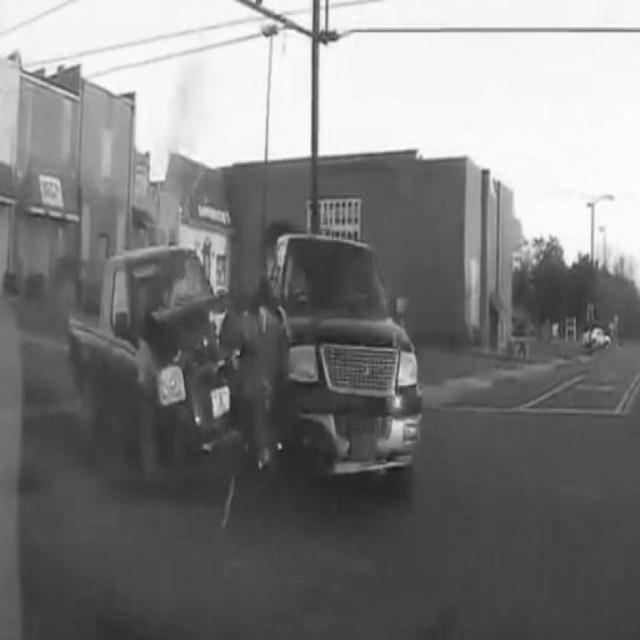accident: (73, 235, 427, 488)
